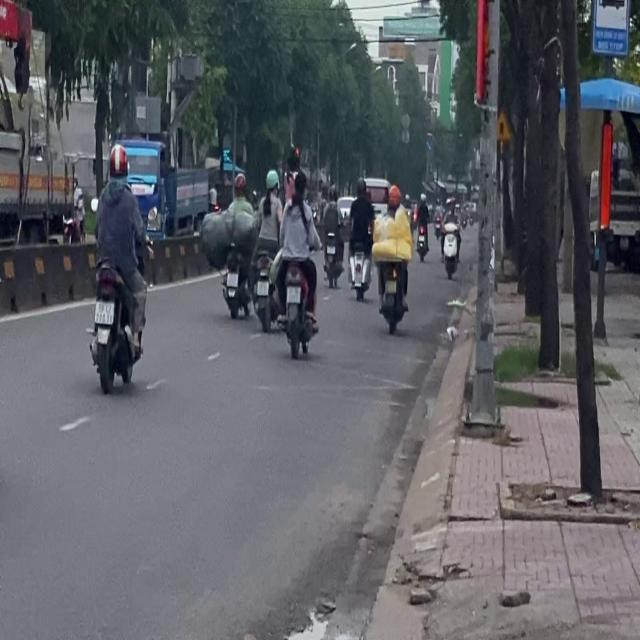helmet: (107, 144, 128, 181)
licenseplate: (87, 143, 148, 392), (273, 164, 320, 358)
motorcyclist: (292, 170, 306, 200)
nohelmet: (95, 300, 114, 323), (286, 285, 300, 302)
